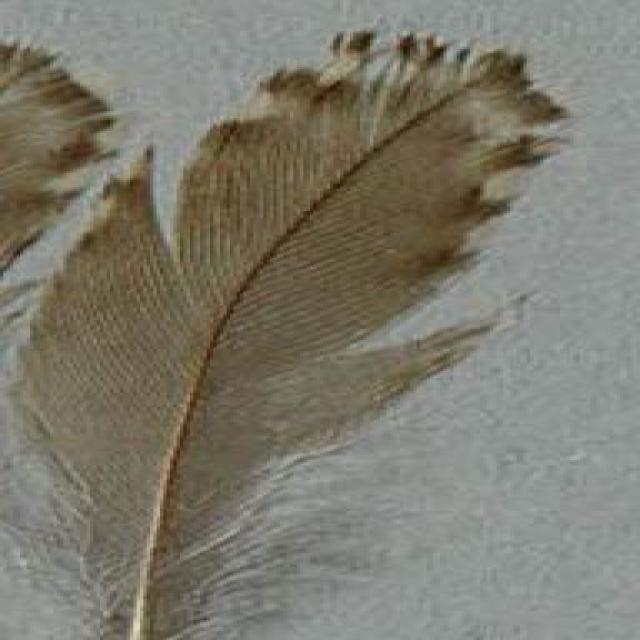feather: (11, 30, 558, 640)
